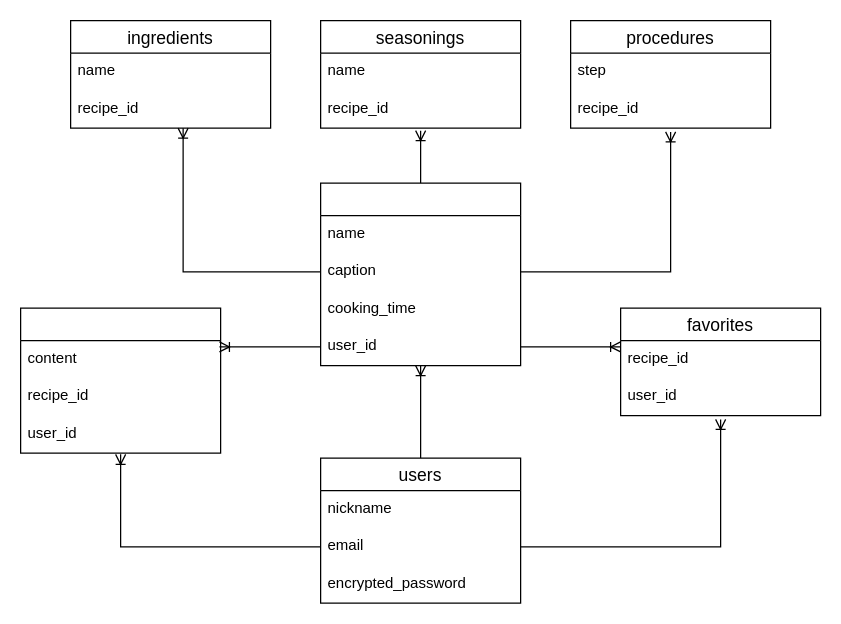
Image size: 841x624. Some labels were removed from this diagram. Here are the shapes that lost their labels. From the top down, the box of each, then its label:
(319, 182, 521, 366): recipes
(19, 307, 221, 453): comments
